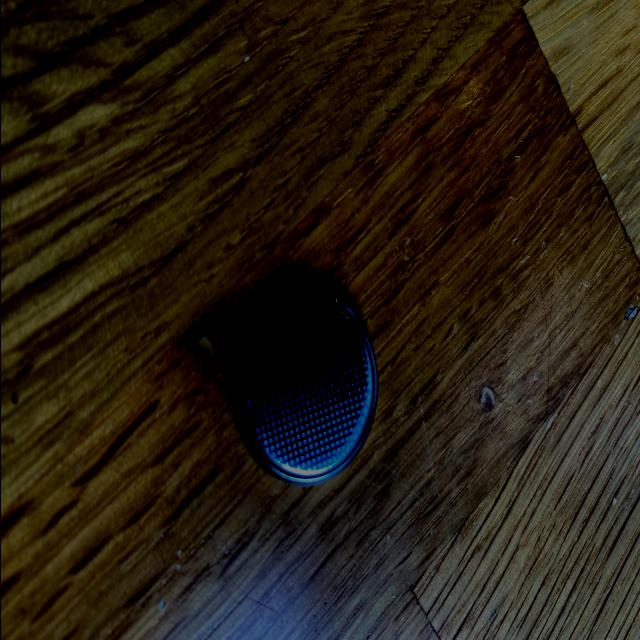COIN: (230, 285, 378, 485)
